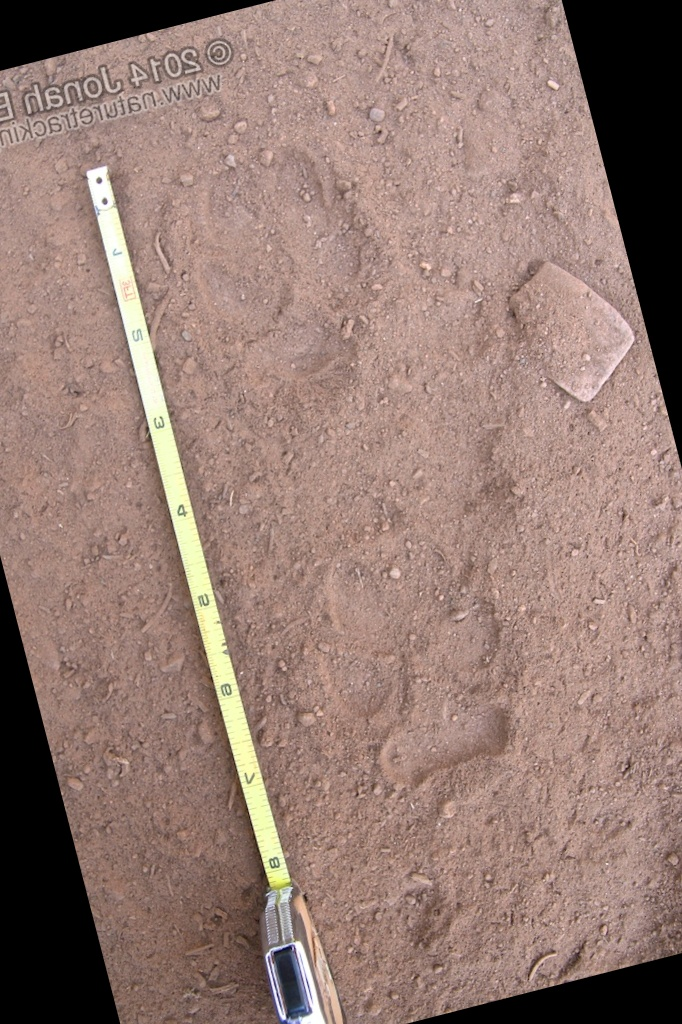coyote: (291, 518, 548, 822), (162, 124, 412, 413)
